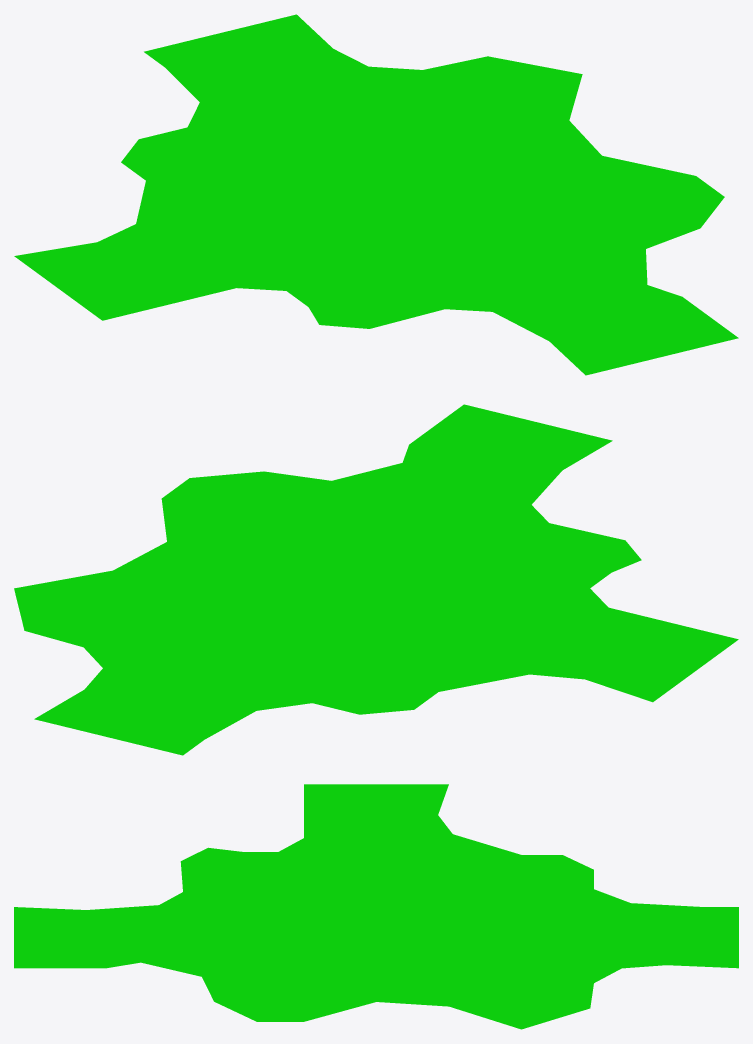
3 renders of one model, top to bottom at view 1: azimuth 30°, elevation 25°; view 2: azimuth 150°, elevation 25°; view 3: azimuth 270°, elevation 25°, orthographic. The views are drawn at different scales.
Visible parts, largest first — view 1: BG001_2004_00_c01; view 2: BG001_2004_00_c01; view 3: BG001_2004_00_c01.
Part boxes in pixels (x1,y1,x2,y2): BG001_2004_00_c01: (14, 14, 738, 375); BG001_2004_00_c01: (14, 404, 738, 755); BG001_2004_00_c01: (14, 784, 738, 1029).
Size of the model in its own units: 1600 by 0 by 2000.
